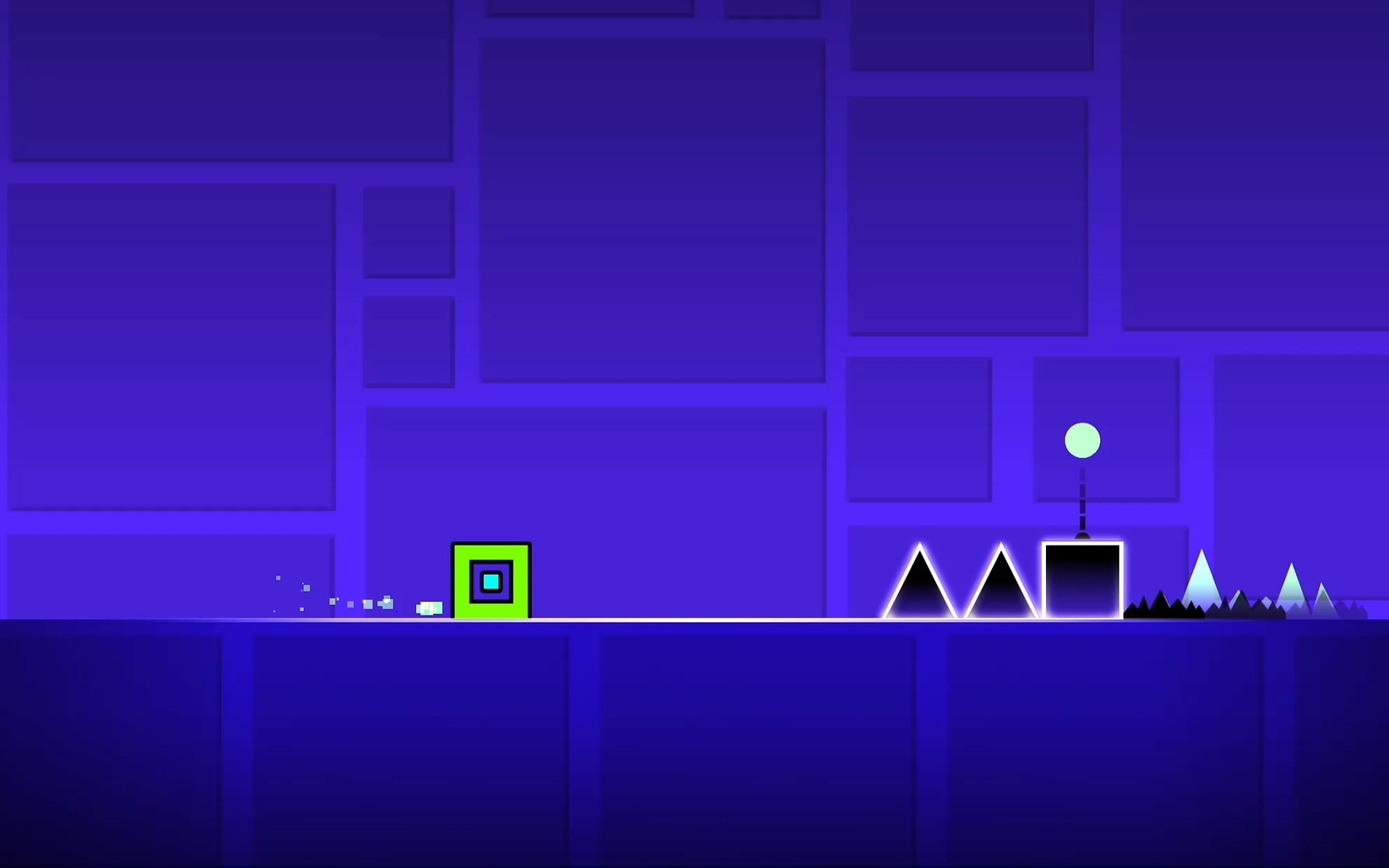Block: (1040, 540, 1126, 618)
Player: (450, 542, 532, 616)
Spike: (963, 542, 1040, 618), (881, 542, 956, 617)
Spike3: (1290, 585, 1366, 618), (1125, 592, 1205, 619), (1205, 591, 1285, 617)
